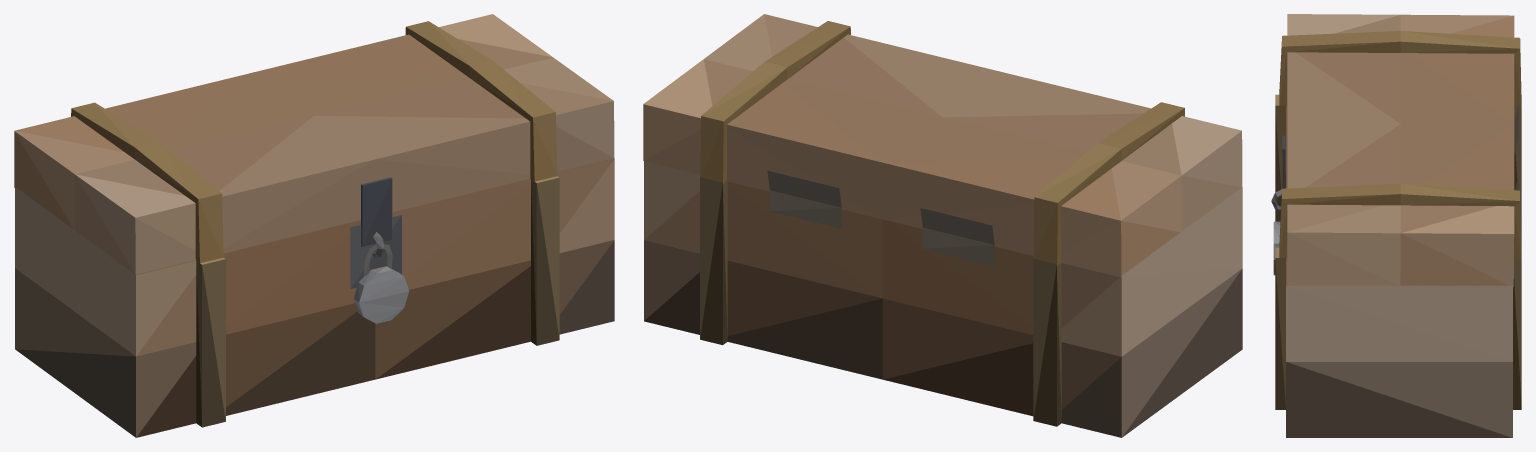
Rendered from prop_container_chest_1.fbx.
3 renders of one model, left to right at view 1: azimuth 30°, elevation 25°; view 2: azimuth 150°, elevation 25°; view 3: azimuth 270°, elevation 25°, orthographic. The views are drawn at different scales.
Parts seen in each view (by area): view 1: prop_container_chest_1; view 2: prop_container_chest_1; view 3: prop_container_chest_1.
Part boxes in pixels (box(x1,y1,x2,y2)): prop_container_chest_1: box(14, 14, 614, 437); prop_container_chest_1: box(643, 14, 1242, 437); prop_container_chest_1: box(1271, 14, 1521, 437).
Size of the model in its own units: 2.26 by 1.04 by 1.1.
